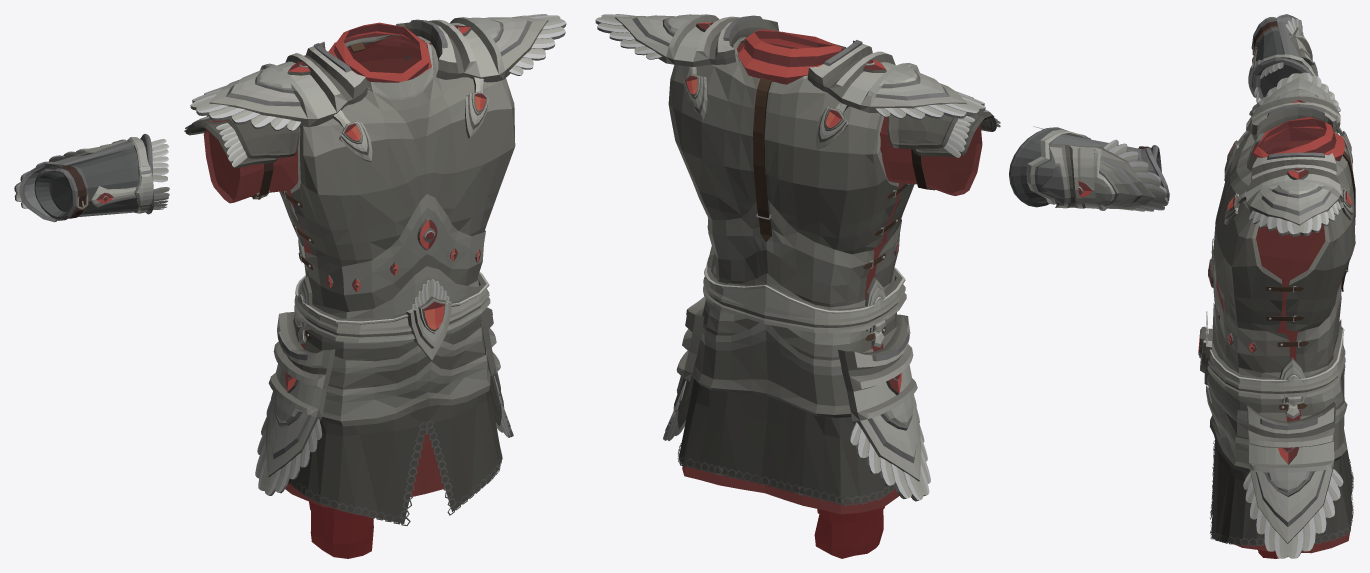
Rendered from lostCrownArmor.glb.
The picture shows the model from 3 angles, left to right: view 1: azimuth 30°, elevation 25°; view 2: azimuth 150°, elevation 25°; view 3: azimuth 270°, elevation 25°; orthographic projection. The views are drawn at different scales.
Visible parts, largest first — view 1: lostCrownTorso, lostCrownWristGuard, lostCrownUpperArm, lostCrownLowerLeg; view 2: lostCrownTorso, lostCrownWristGuard, lostCrownUpperArm, lostCrownLowerLeg; view 3: lostCrownTorso, lostCrownWristGuard, lostCrownUpperArm.
Part boxes in pixels (x1,y1,x2,y2): lostCrownTorso: (190,14,566,525); lostCrownWristGuard: (14,134,169,222); lostCrownUpperArm: (184,115,299,203); lostCrownLowerLeg: (310,511,373,558); lostCrownTorso: (595,14,985,514); lostCrownWristGuard: (1009,126,1169,211); lostCrownUpperArm: (880,110,1000,195); lostCrownLowerLeg: (814,509,883,558); lostCrownTorso: (1198,72,1355,558); lostCrownWristGuard: (1248,14,1318,102); lostCrownUpperArm: (1249,94,1337,154).
Bounding box in the file's own units: 1.43 × 1.23 × 0.3986.
